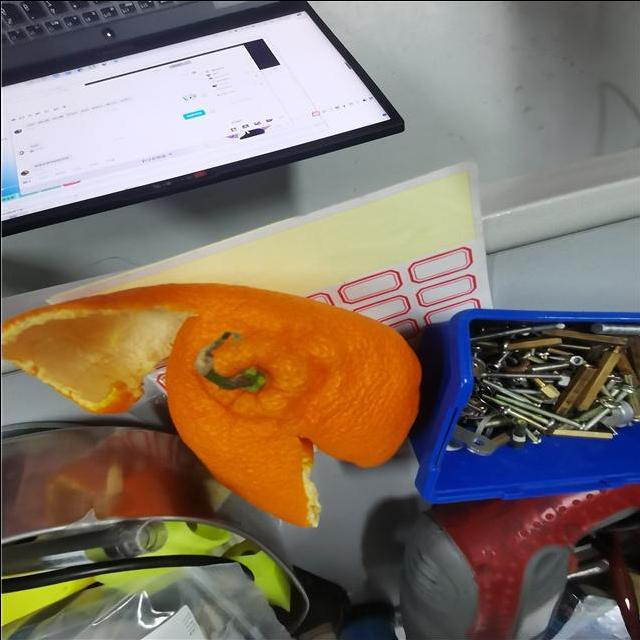orange peel: (0, 273, 427, 530)
